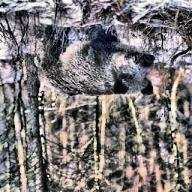boar: (36, 24, 156, 98)
